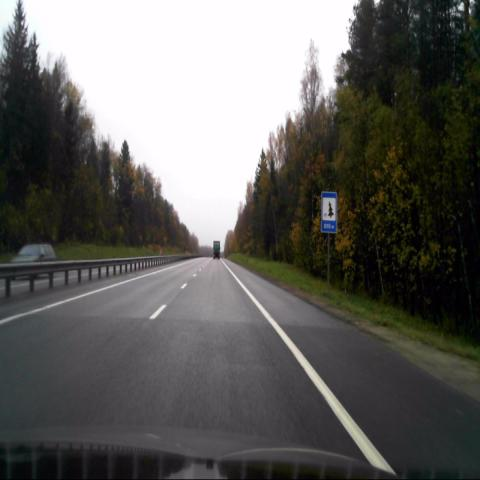7_11: (321, 193, 337, 233)
